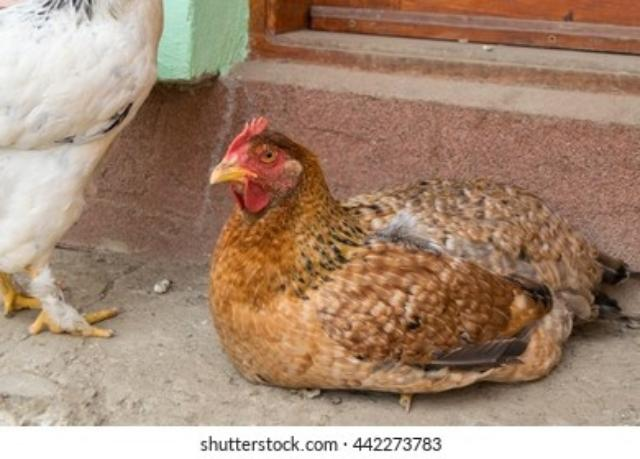Chicken: (208, 117, 638, 415), (0, 0, 162, 340)
